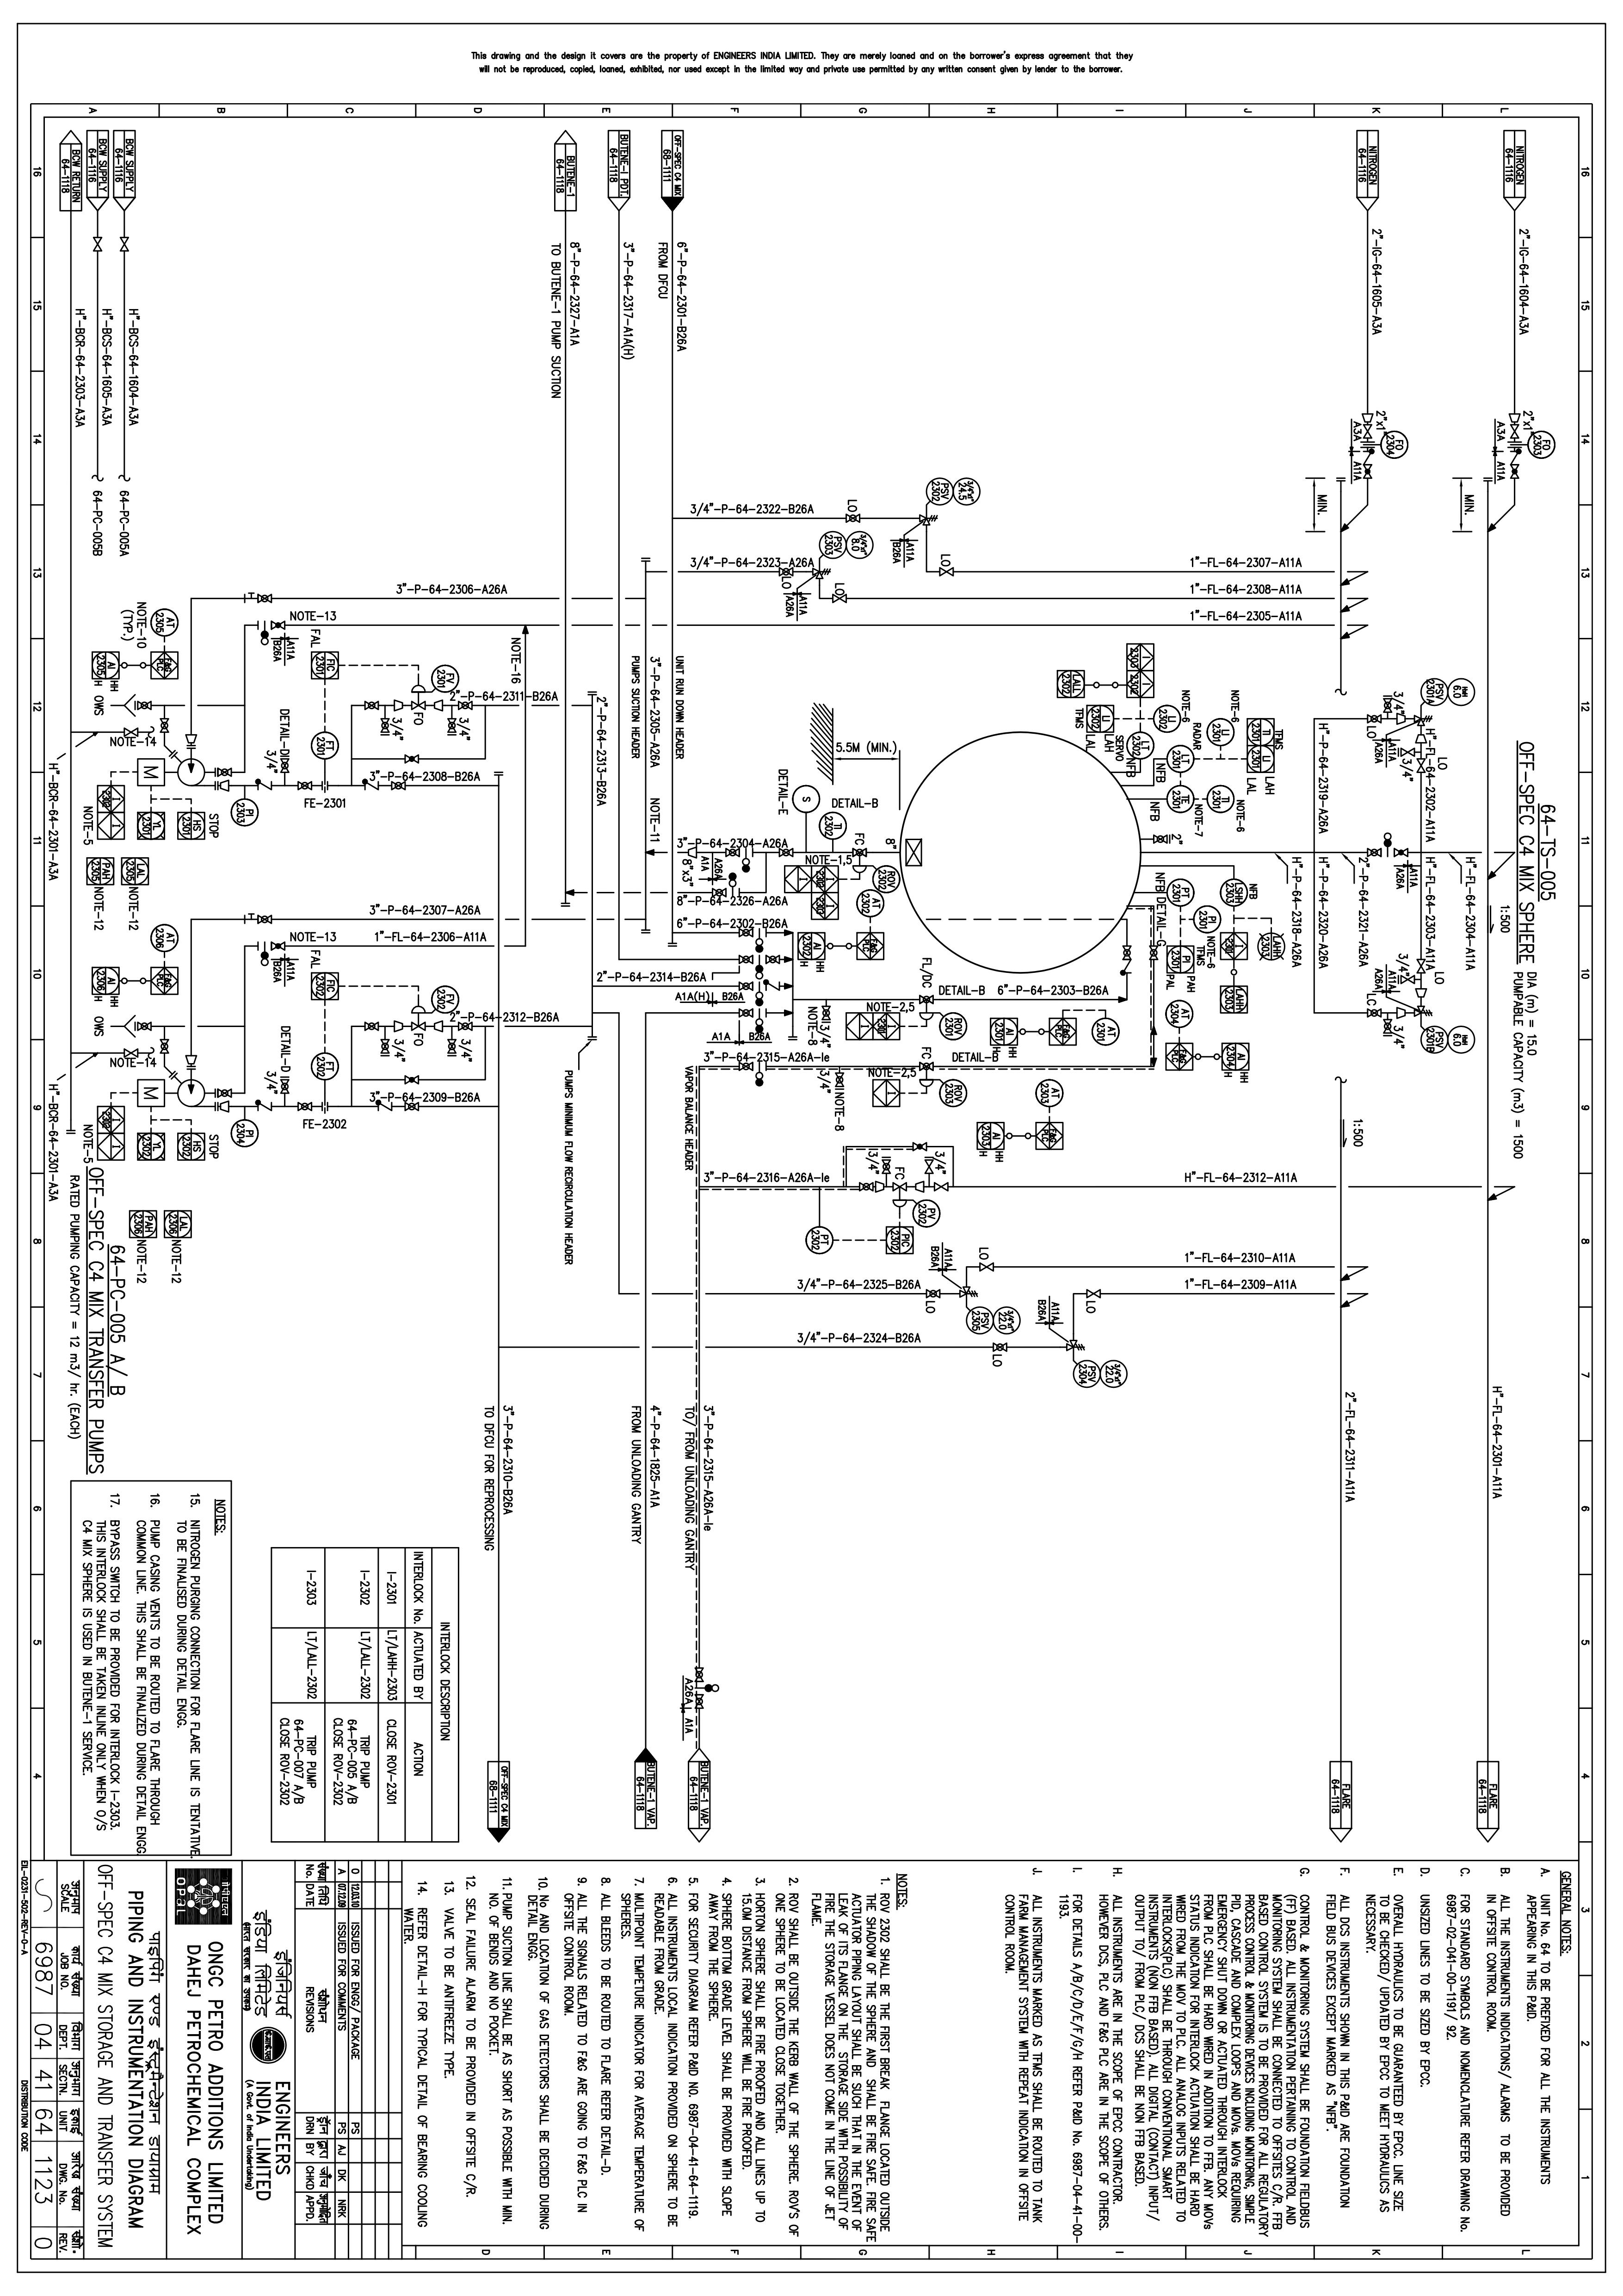ball valve: (1352, 408, 1377, 443), (1504, 409, 1526, 441), (952, 1279, 982, 1302), (1505, 458, 1525, 492), (1409, 1003, 1439, 1024), (114, 234, 137, 260), (177, 727, 200, 754), (912, 511, 945, 529), (1061, 1337, 1093, 1354), (1119, 943, 1135, 977), (278, 747, 295, 776), (836, 515, 873, 529), (443, 1033, 462, 1059), (211, 1086, 239, 1103), (404, 1001, 432, 1019), (980, 1340, 1015, 1354), (1409, 711, 1437, 729), (179, 1051, 200, 1073), (845, 861, 875, 877), (1078, 1286, 1108, 1302), (90, 232, 107, 258), (685, 1665, 711, 1683), (855, 1180, 887, 1195), (376, 1036, 395, 1059), (388, 1017, 411, 1036), (427, 1015, 450, 1035), (1375, 1017, 1395, 1040), (1377, 690, 1395, 715), (265, 618, 295, 632), (395, 1073, 425, 1087), (213, 764, 239, 780), (444, 715, 460, 741), (973, 1261, 999, 1277), (156, 717, 176, 738), (132, 696, 155, 713), (376, 715, 393, 738), (919, 1154, 936, 1177), (408, 682, 436, 696), (808, 567, 836, 581), (211, 778, 235, 794), (132, 1019, 156, 1035), (292, 1100, 316, 1116), (692, 1688, 708, 1713), (293, 780, 320, 794), (358, 697, 385, 711), (936, 567, 963, 581), (732, 952, 759, 966), (906, 1138, 933, 1152), (1361, 458, 1375, 485), (773, 847, 803, 859), (388, 778, 411, 794), (255, 912, 278, 928), (682, 845, 704, 861), (1151, 831, 1173, 847), (360, 1019, 385, 1033), (453, 1021, 478, 1035), (927, 1179, 952, 1193), (256, 590, 276, 608), (734, 1059, 754, 1077), (878, 1156, 896, 1175), (121, 726, 142, 741), (121, 1045, 142, 1061), (213, 1101, 234, 1117), (1398, 743, 1419, 759), (1414, 956, 1430, 977), (400, 752, 423, 766), (408, 699, 430, 713), (279, 1073, 293, 1096), (158, 1038, 174, 1058), (827, 592, 852, 604), (732, 1007, 757, 1019), (1360, 1007, 1384, 1019), (409, 1019, 430, 1033), (1358, 713, 1386, 724), (1414, 755, 1428, 776), (267, 940, 290, 952), (734, 980, 757, 993), (915, 994, 938, 1007), (917, 1061, 940, 1073), (1396, 973, 1419, 986), (706, 887, 732, 898), (1393, 845, 1410, 861), (457, 699, 476, 713), (402, 1101, 422, 1116), (1363, 847, 1382, 861), (891, 1198, 912, 1210), (847, 847, 875, 856), (764, 952, 782, 966), (724, 847, 743, 859), (891, 1180, 910, 1193), (775, 569, 799, 578), (919, 1291, 947, 1298), (734, 929, 755, 938)
